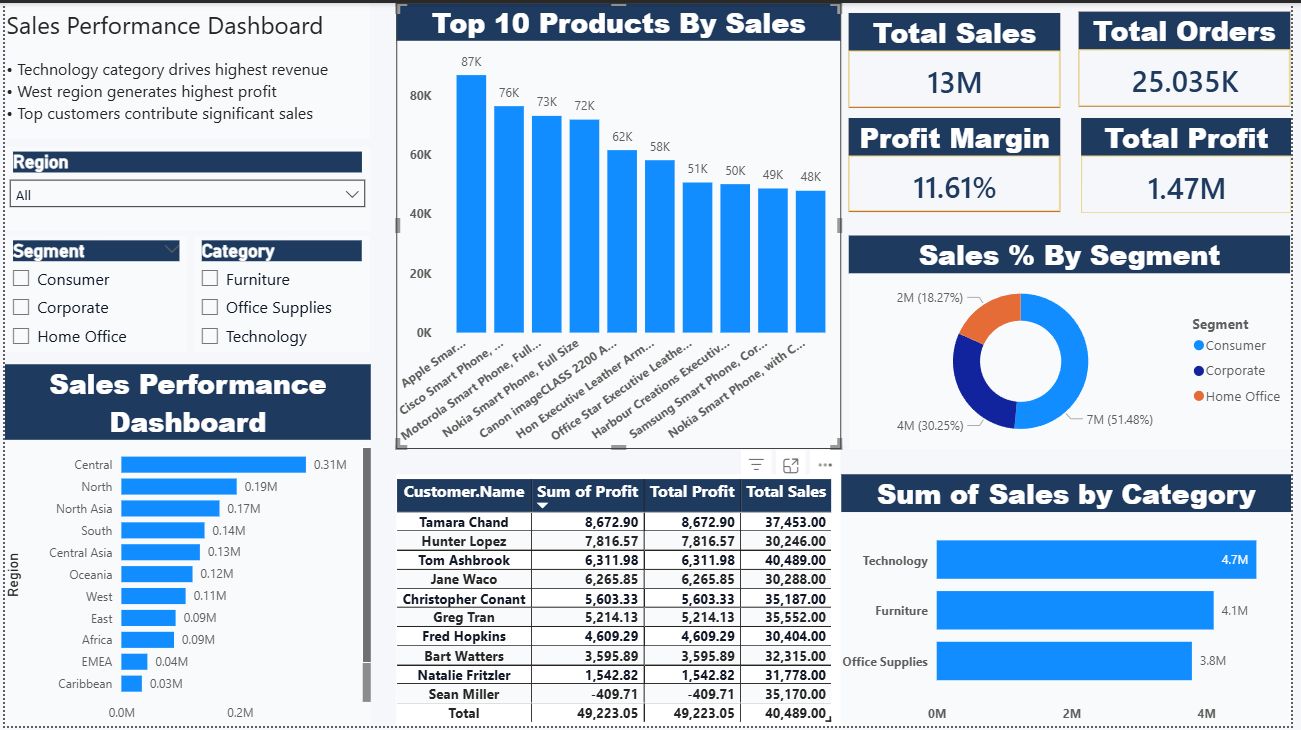

The page's visual inventory and layout, read from the dashboard file:
{"tool":"powerbi","page":{"name":"Page 1","canvas":[1280,720],"ordinal":0},"visuals":[{"type":"cardVisual","title":"Total Profit","fields":{"Data":["superstore.Total Profit"]},"box":[1070.7,114.7,209.3,94.7],"z":0},{"type":"cardVisual","title":"Total Sales","fields":{"Data":["superstore.Total Sales"]},"box":[839.7,10,210.2,94.5],"z":1000},{"type":"tableEx","fields":{"Values":["superstore.Customer.Name","Sum(superstore.Profit)","superstore.Total Profit","select","superstore.Total Sales"]},"box":[389.3,469.3,442.7,250.7],"z":2000},{"type":"cardVisual","title":"Total Orders","fields":{"Data":["Count(superstore.Order.ID)"]},"box":[1068.6,8.7,210.2,94.5],"z":3000},{"type":"cardVisual","title":"Profit Margin","fields":{"Data":["superstore.Profit Margin"]},"box":[840,114.7,210.7,93.3],"z":5000},{"type":"clusteredBarChart","fields":{"Y":["Sum(superstore.Sales)"],"Category":["superstore.Category"]},"box":[832.2,469,447.8,251.3],"z":6000},{"type":"clusteredBarChart","title":"Sales Performance Dashboard ","fields":{"Category":["superstore.Region"],"Y":["Sum(superstore.Profit)"]},"box":[0,360,364,360],"z":7000},{"type":"clusteredColumnChart","title":"Top 10 Products By Sales","fields":{"Y":["Sum(superstore.Sales)"],"Category":["superstore.Product.Name"]},"box":[389.3,0,442.7,444],"z":8000},{"type":"donutChart","title":"Sales % By Segment","fields":{"Category":["superstore.Segment"],"Y":["Sum(superstore.Sales)"]},"box":[839.7,231.4,439.1,212.7],"z":9000},{"type":"slicer","fields":{"Values":["superstore.Region"]},"box":[0,143.1,363.2,83.3],"z":10000},{"type":"slicer","fields":{"Values":["superstore.Category"]},"box":[187.8,231.4,175.4,115.7],"z":11000},{"type":"slicer","fields":{"Values":["superstore.Segment"]},"box":[0,231.4,181.6,115.7],"z":12000},{"type":"textbox","box":[1.2,0,362,135.6],"z":13000}]}

Visuals, with their boxes in screenshot pixels (x1, y1, x2, y2), scaled from the page's 1280x720 canvas onto the 1301x730 screenshot:
"Total Profit" cardVisual: region(1088, 116, 1300, 212)
"Total Sales" cardVisual: region(853, 10, 1067, 106)
tableEx - superstore.Customer.Name x Sum(superstore.Profit): region(396, 476, 846, 729)
"Total Orders" cardVisual: region(1086, 9, 1300, 105)
"Profit Margin" cardVisual: region(854, 116, 1068, 211)
clusteredBarChart - Sum(superstore.Sales) x superstore.Category: region(846, 476, 1300, 729)
"Sales Performance Dashboard " clusteredBarChart: region(0, 365, 370, 729)
"Top 10 Products By Sales" clusteredColumnChart: region(396, 0, 846, 450)
"Sales % By Segment" donutChart: region(853, 235, 1300, 450)
slicer - superstore.Region: region(0, 145, 369, 230)
slicer - superstore.Category: region(191, 235, 369, 352)
slicer - superstore.Segment: region(0, 235, 185, 352)
textbox: region(1, 0, 369, 137)
